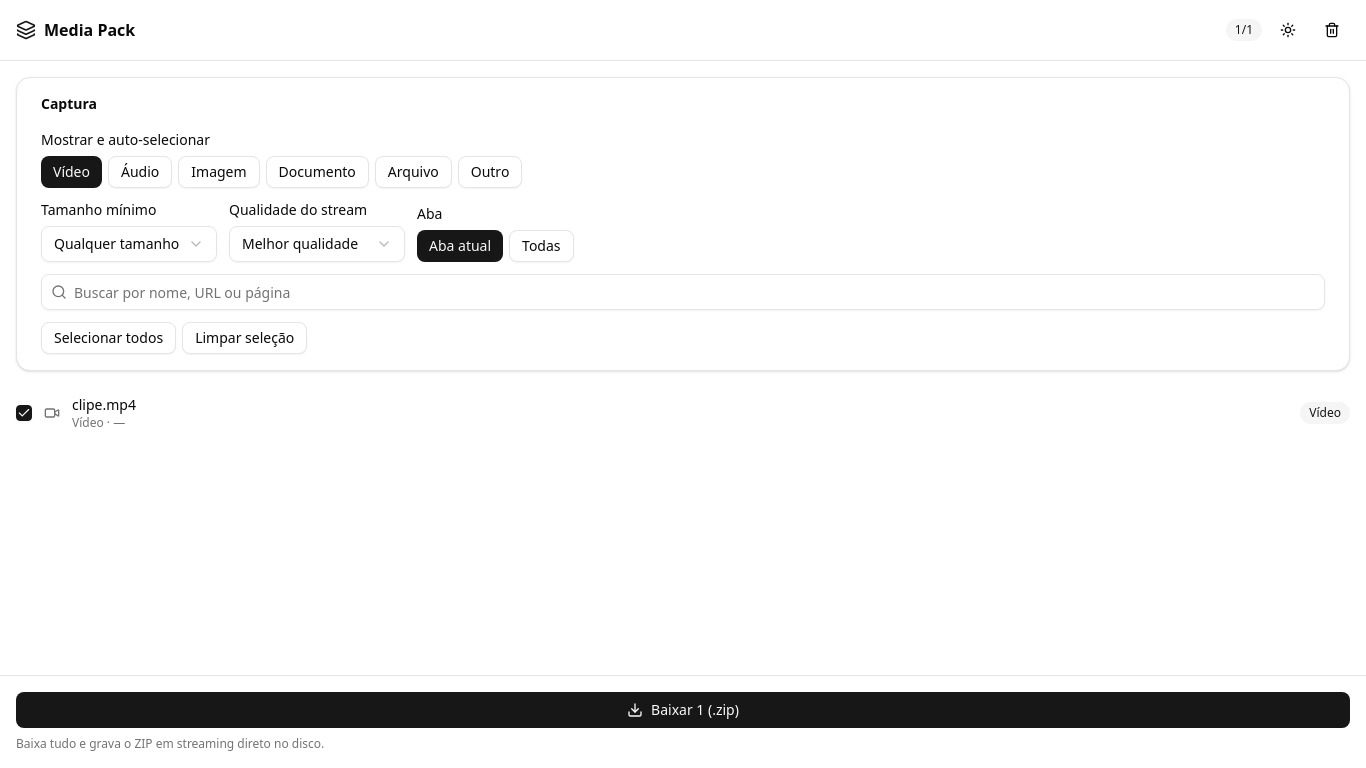
Test: <App /> › passa a mostrar outros tipos quando marcados
Expected: the text "clipe.mp4" is shown, [72,395,136,414]
Click the button "Imagem" at (219,172), box [178,156,260,188]
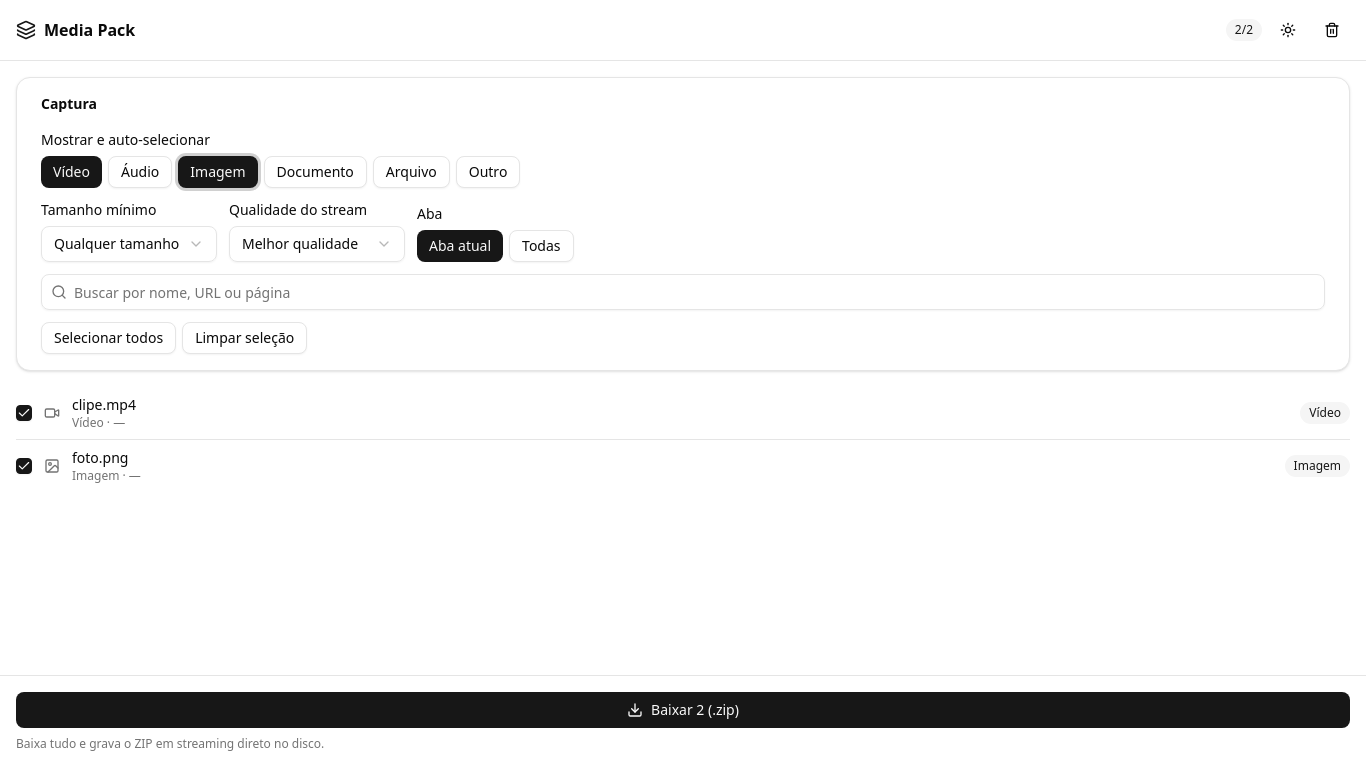
Expected: the button "Baixar 2 (.zip)" is enabled, [16,692,1350,728]
Now the text "foto.png" is shown, box [72,448,128,467]
